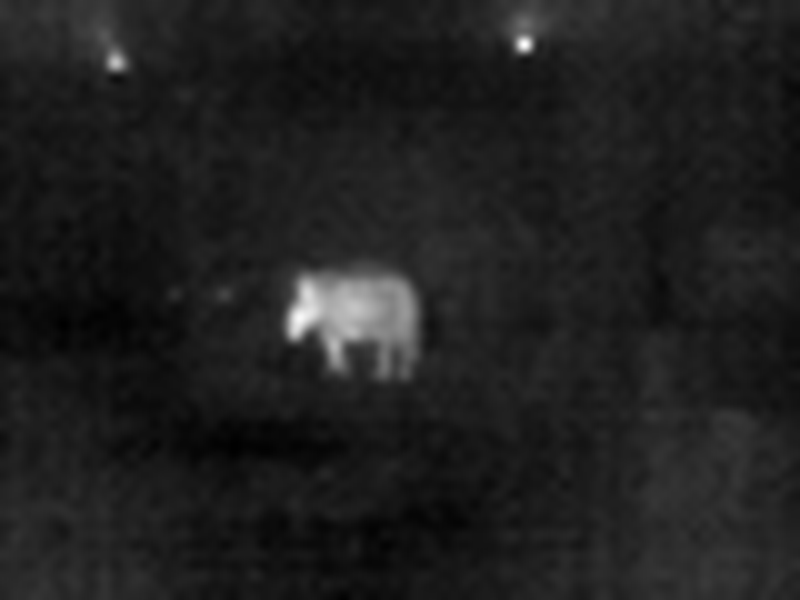elephant: (269, 267, 420, 381)
